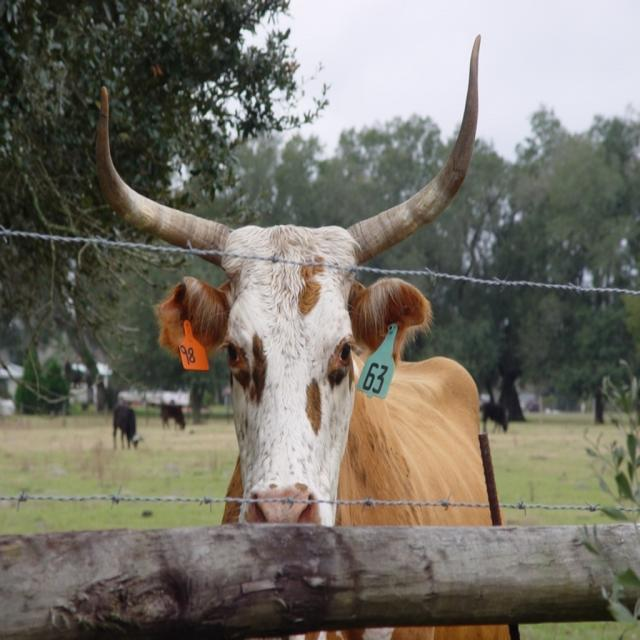Cattle: (95, 34, 512, 640), (112, 404, 140, 450), (483, 403, 509, 433), (162, 404, 185, 431)
